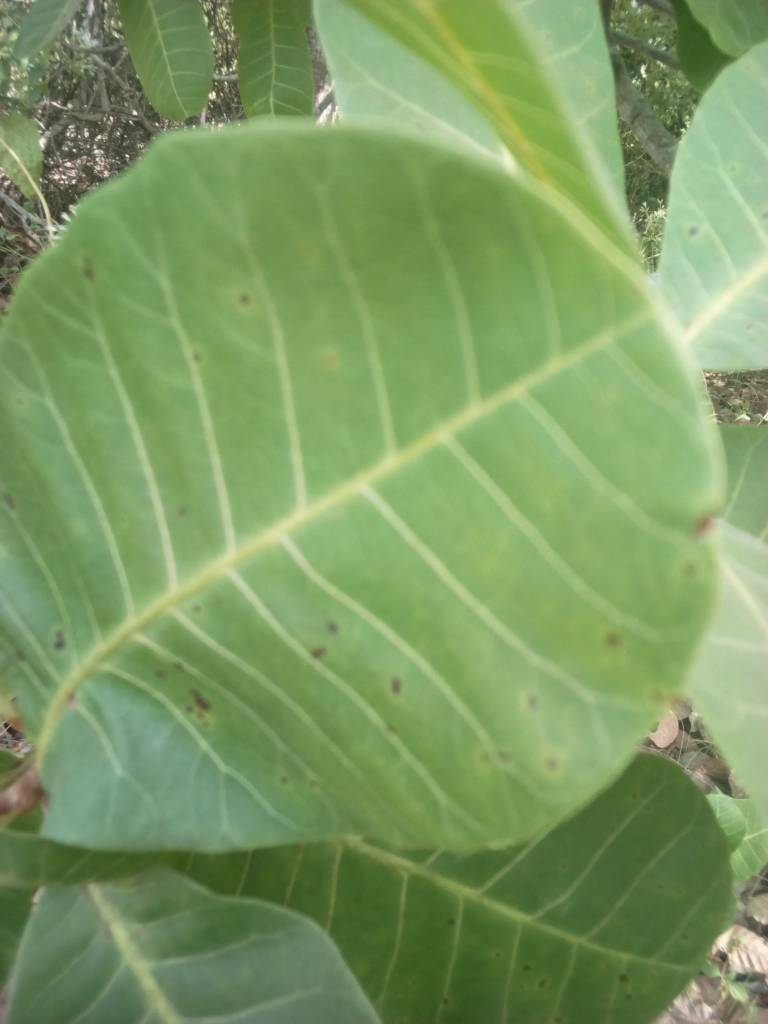Anthracnose: (1, 122, 721, 838)
